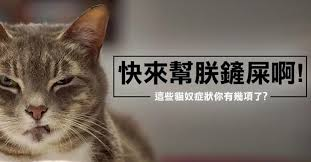cat: (1, 1, 112, 153)
